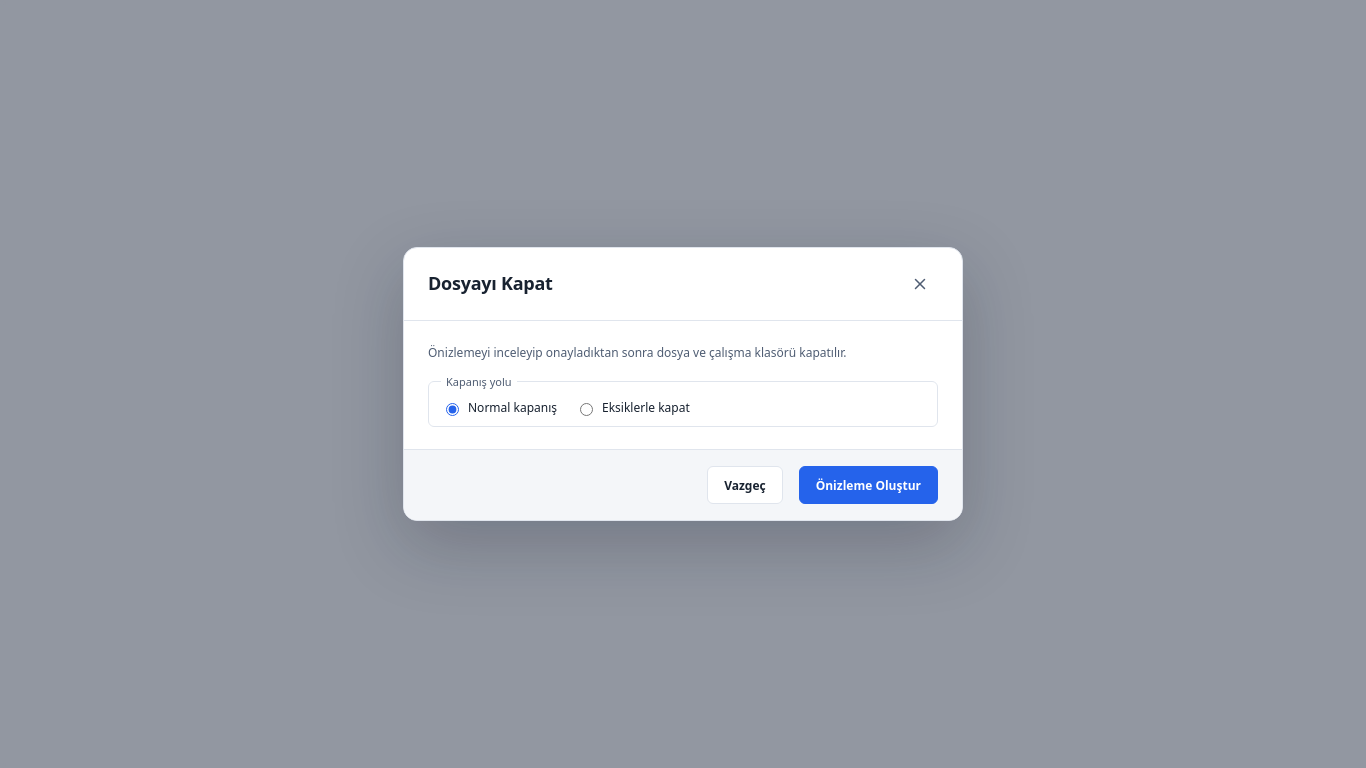
CaseLifecycleModal › explains the rejected expectedCaseVersion field and retains the entered reason
This screenshot has width=1366, height=768.
Click the radio button labelled "Eksiklerle kapat".
click(586, 409)  # box [580,403,593,416]
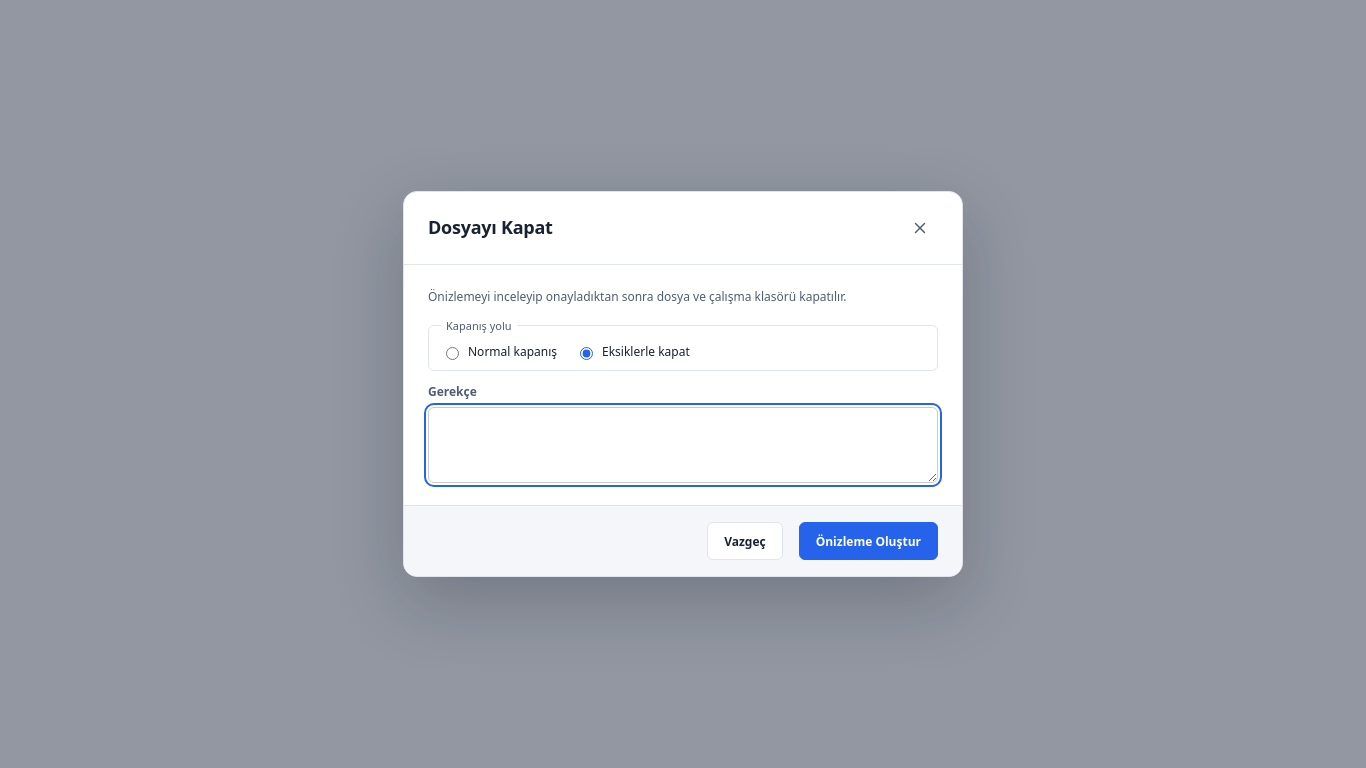
Type "Eksik belgeler daha sonra tamamlanacak." into the text box labelled "Gerekçe".
click(683, 445); type("Eksik belgeler daha sonra tamamlanacak.")  # box [428,407,938,483]
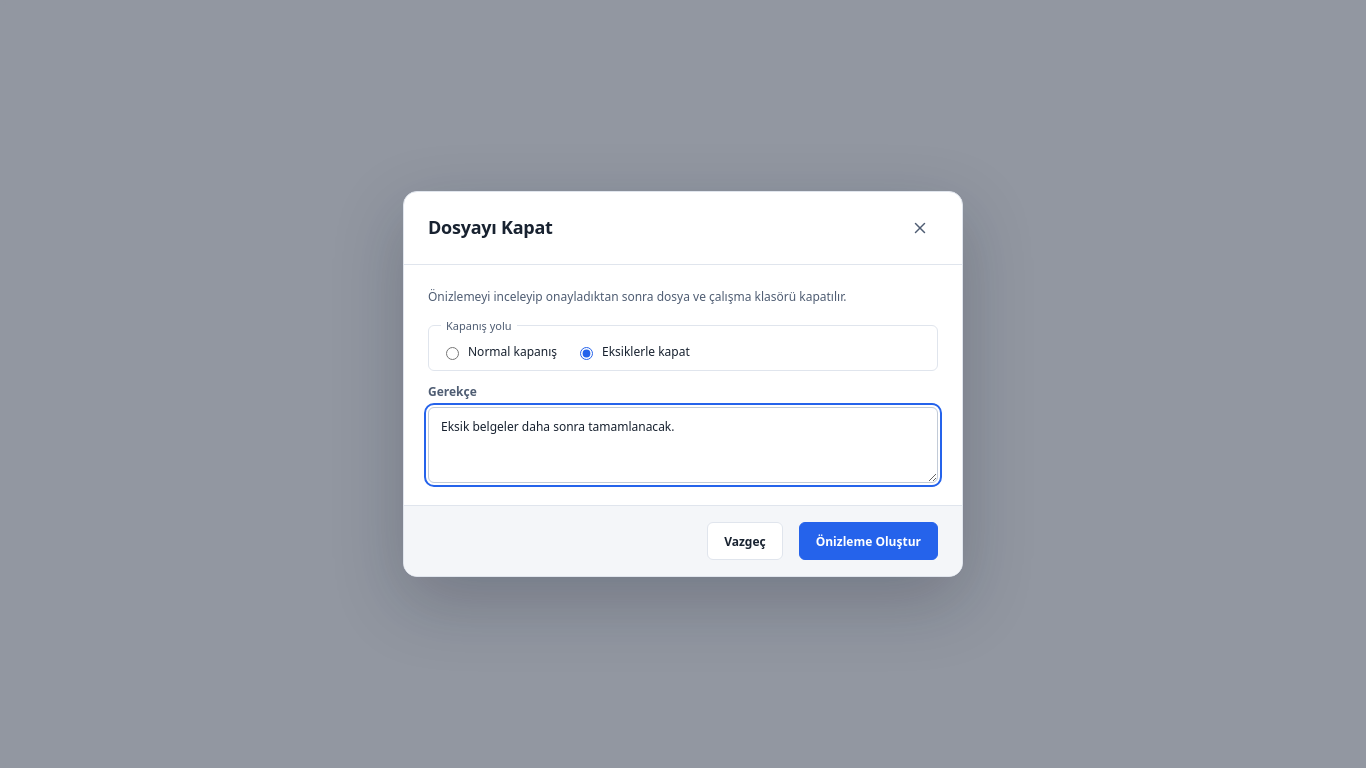
Click the button "Önizleme Oluştur".
click(868, 541)  # box [799,522,938,560]
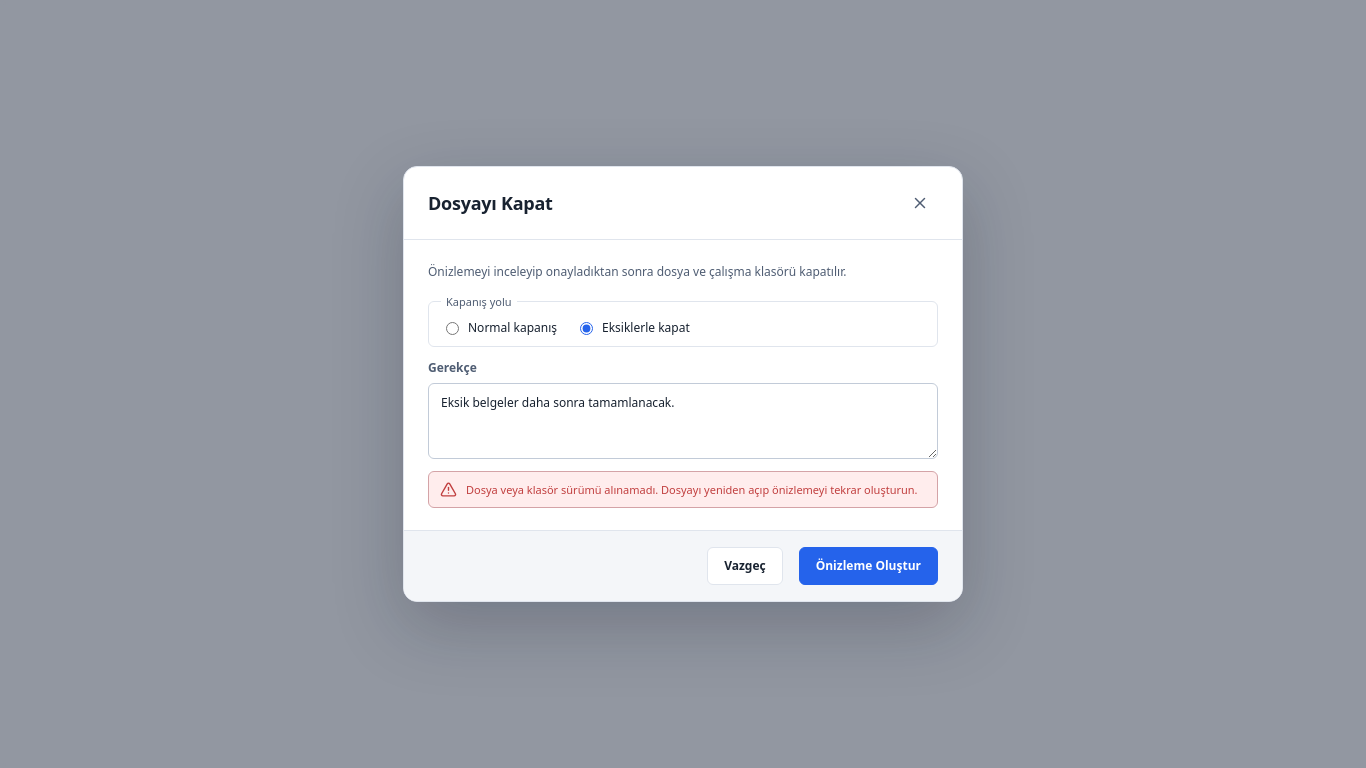
Now the radio button labelled "Eksiklerle kapat" is checked, box [580,322,593,335]
Now the message shows "Dosya veya klasör sürümü alınamadı.", box [466,482,918,497]
